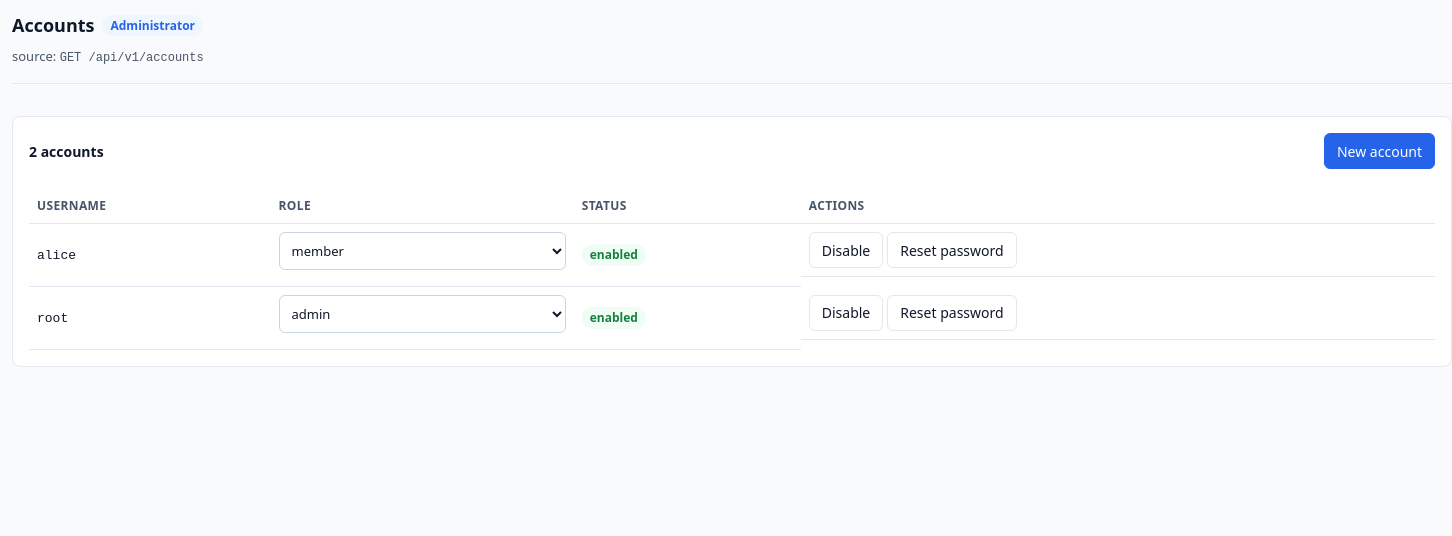
LG-062 Accounts admin panel › resets a password with a transient field that is cleared
Expected: the text "alice" is shown, [37, 248, 76, 263]
Click the button "Reset password" in the row of "alice" at (952, 250), box [887, 232, 1017, 268]
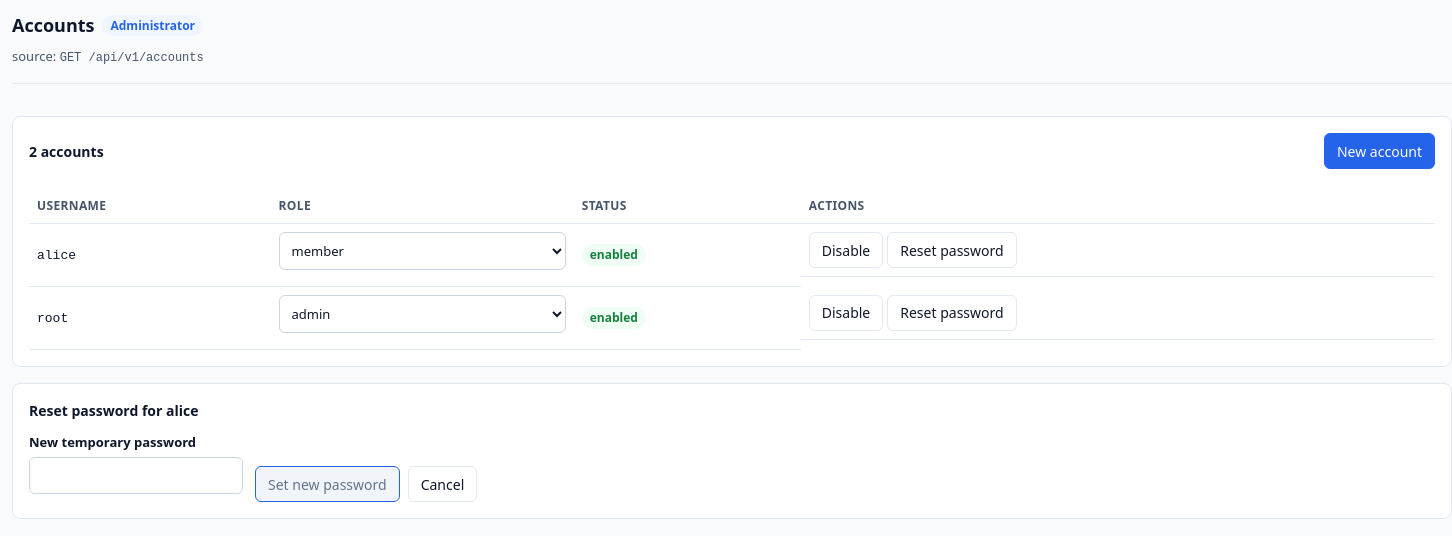
Type "reset-secret" into the password field labelled "New temporary password" at (136, 475), box [29, 456, 243, 494]
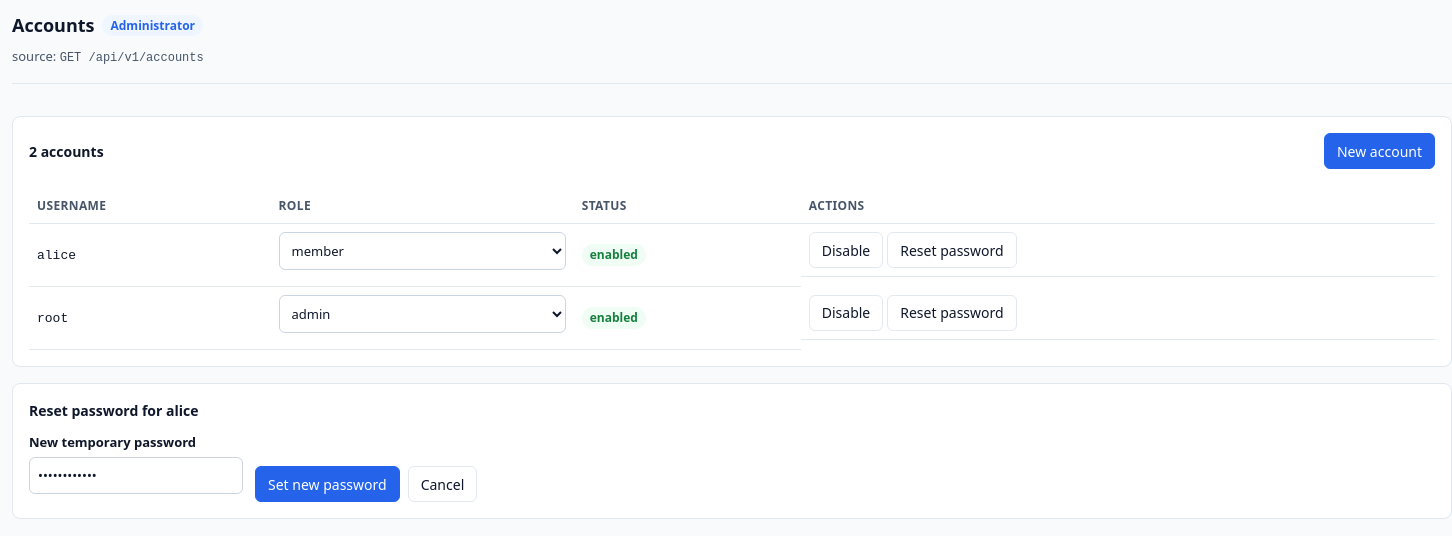
Click the button "Set new password" at (327, 484), box [255, 466, 400, 502]
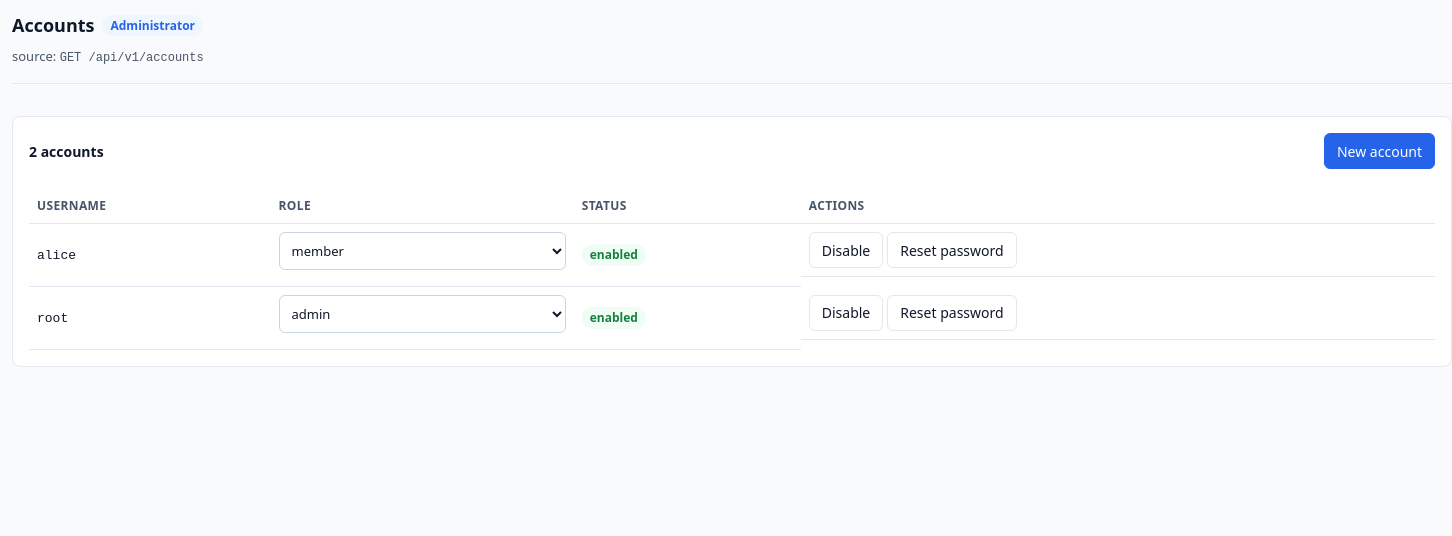
Result: the text labelled "New temporary password" is gone
